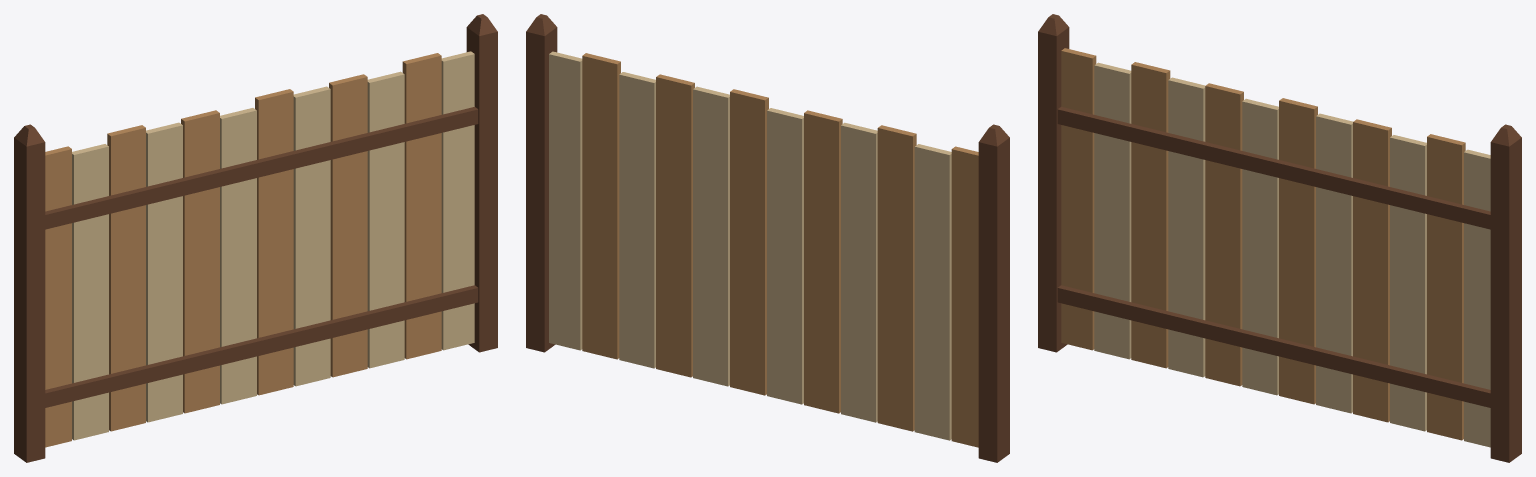
Rendered from fence_wood.glb.
The picture shows the model from 3 angles, left to right: view 1: azimuth 30°, elevation 25°; view 2: azimuth 150°, elevation 25°; view 3: azimuth 330°, elevation 25°; orthographic projection.
Parts seen in each view (by area): view 1: Body; view 2: Body; view 3: Body.
Part boxes in pixels (x1=…): Body: x1=14, y1=14, x2=497, y2=462; Body: x1=526, y1=14, x2=1009, y2=462; Body: x1=1038, y1=14, x2=1521, y2=462.
Bounding box in the file's own units: 3.04 × 2.03 × 0.14.
